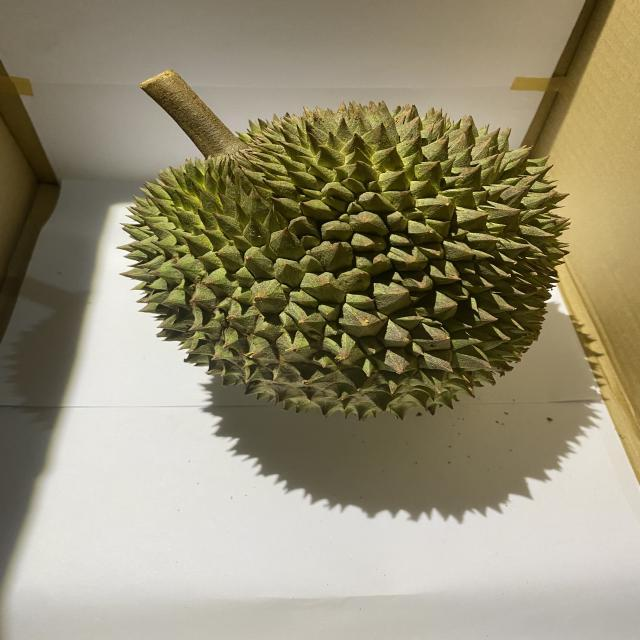immature: (115, 100, 570, 426)
